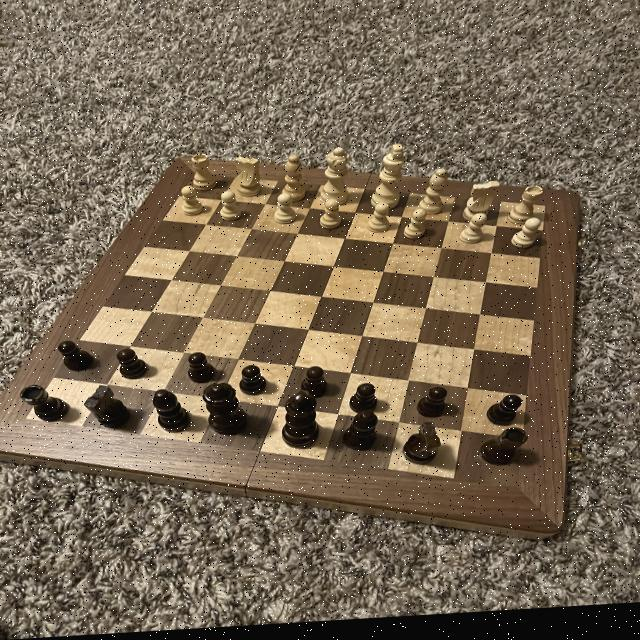bishop: (147, 384, 195, 440), (339, 407, 382, 458)
black-bishop: (276, 390, 320, 458)
black-king: (83, 383, 133, 430), (401, 425, 445, 472)
black-knight: (56, 337, 96, 376), (413, 387, 452, 427), (234, 363, 272, 402), (486, 399, 525, 434), (115, 346, 151, 382), (348, 385, 384, 421), (186, 351, 218, 388), (299, 366, 330, 403)
black-pawn: (199, 382, 253, 442)
black-queen: (16, 382, 76, 427), (478, 430, 530, 474)
black-rook: (276, 156, 312, 207), (417, 171, 451, 223)
white-bishop: (369, 145, 409, 216)
white-king: (460, 184, 504, 228), (230, 158, 268, 200)
white-knight: (271, 194, 305, 231), (401, 211, 432, 247), (460, 216, 490, 252), (511, 222, 542, 256), (317, 202, 348, 233), (366, 206, 395, 239), (217, 192, 242, 225), (180, 185, 204, 219)
white-pawn: (317, 149, 354, 213)
white-queen: (507, 189, 546, 233), (188, 152, 220, 196)
